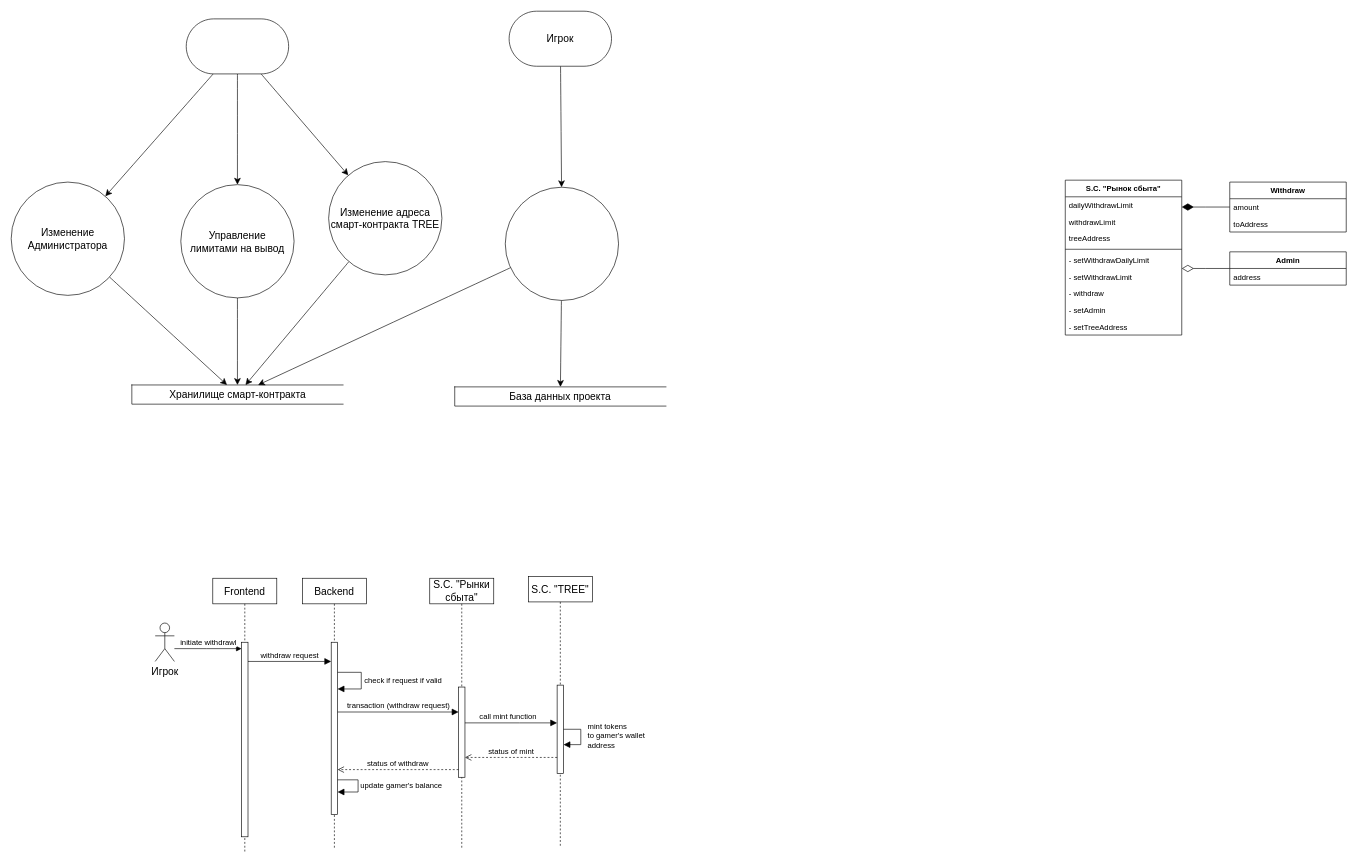
The diagram is 1357 pixels wide and 865 high, and some of its shapes have lost their labels. The shapes that lost their labels are listed below. From the top down, each one's centre as x and y in pixels, then its label:
At point (237, 46): "Владелец".
At point (562, 243): "Вывод".
